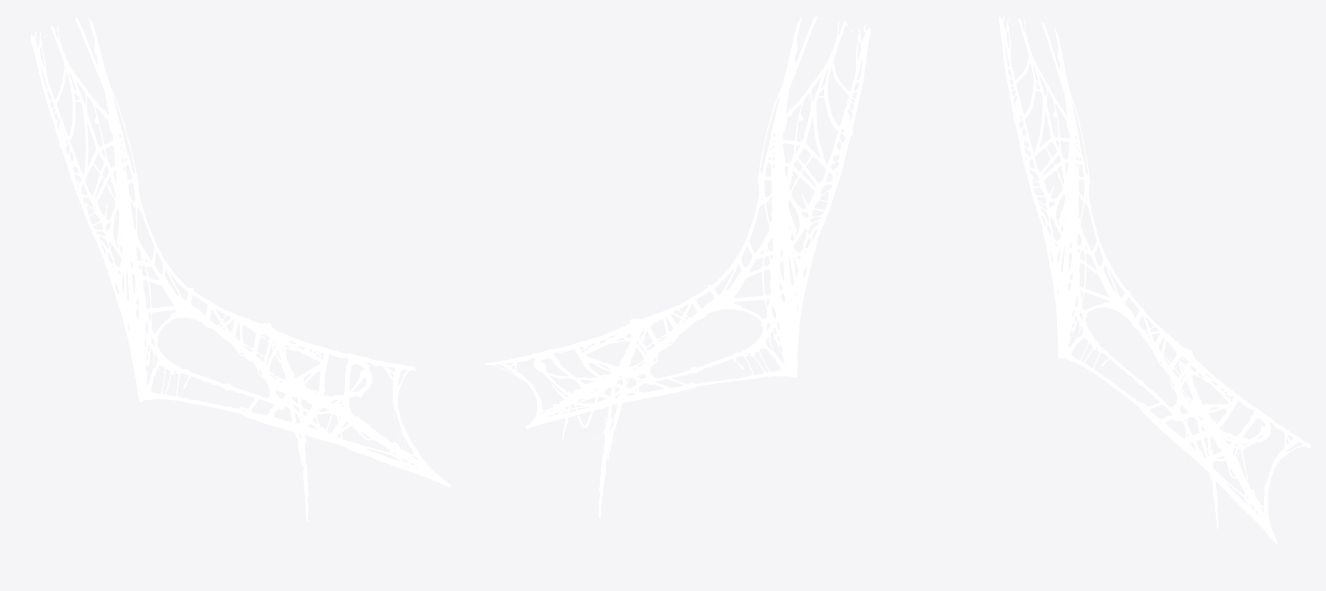
The picture shows the model from 3 angles, left to right: view 1: azimuth 30°, elevation 25°; view 2: azimuth 150°, elevation 25°; view 3: azimuth 330°, elevation 25°; orthographic projection. The views are drawn at different scales.
Parts seen in each view (by area): view 1: SM_Cob_Web_07_LOD0; view 2: SM_Cob_Web_07_LOD0; view 3: SM_Cob_Web_07_LOD0.
Boxes of the visible parts, bbox=[...] form: SM_Cob_Web_07_LOD0: bbox=[30, 17, 450, 521]; SM_Cob_Web_07_LOD0: bbox=[484, 16, 870, 517]; SM_Cob_Web_07_LOD0: bbox=[998, 15, 1310, 543].
Bounding box in the file's own units: 2.07 × 2.89 × 0.4181.
Materials: 1 (1 with a texture image).
